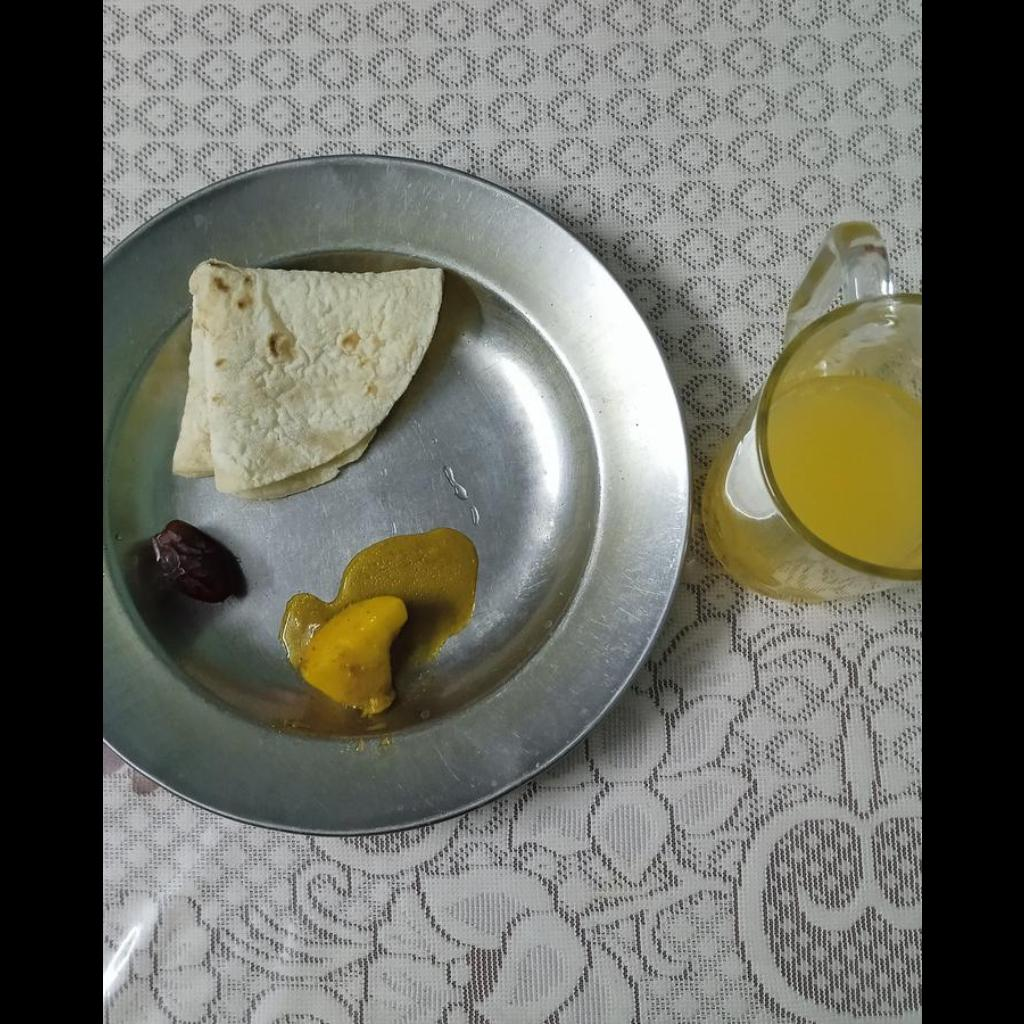dates: (150, 520, 244, 603)
juice: (764, 375, 920, 566)
potato: (298, 596, 406, 716)
ruti: (167, 266, 436, 504)
